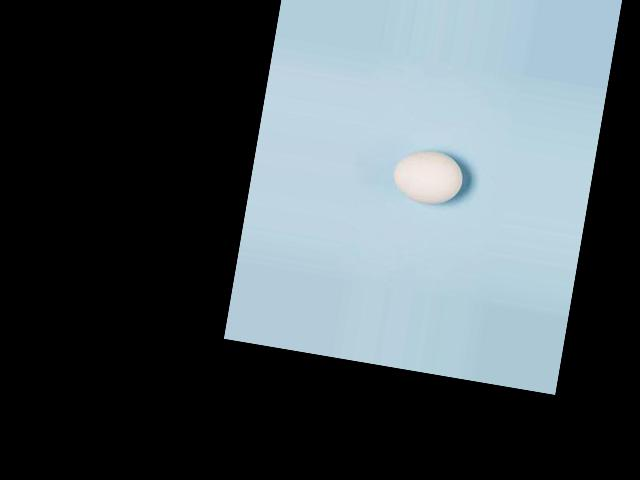egg: (389, 145, 466, 209)
